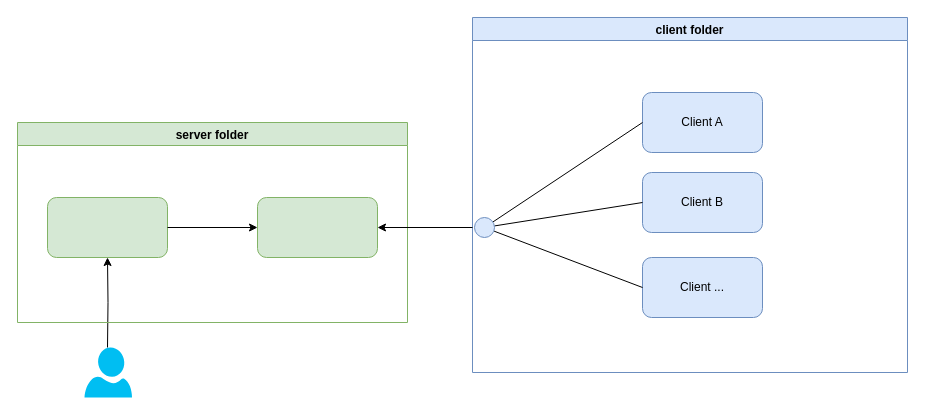
Some shapes in this 925 by 415 pixel diagram are drawn without their labels. Here are the shapes that lost their labels. From the top down, the centre of each, then its label:
At (107,227): "Frontend (Vue.js)".
At (317,227): "Frontend - API (Golang)".
